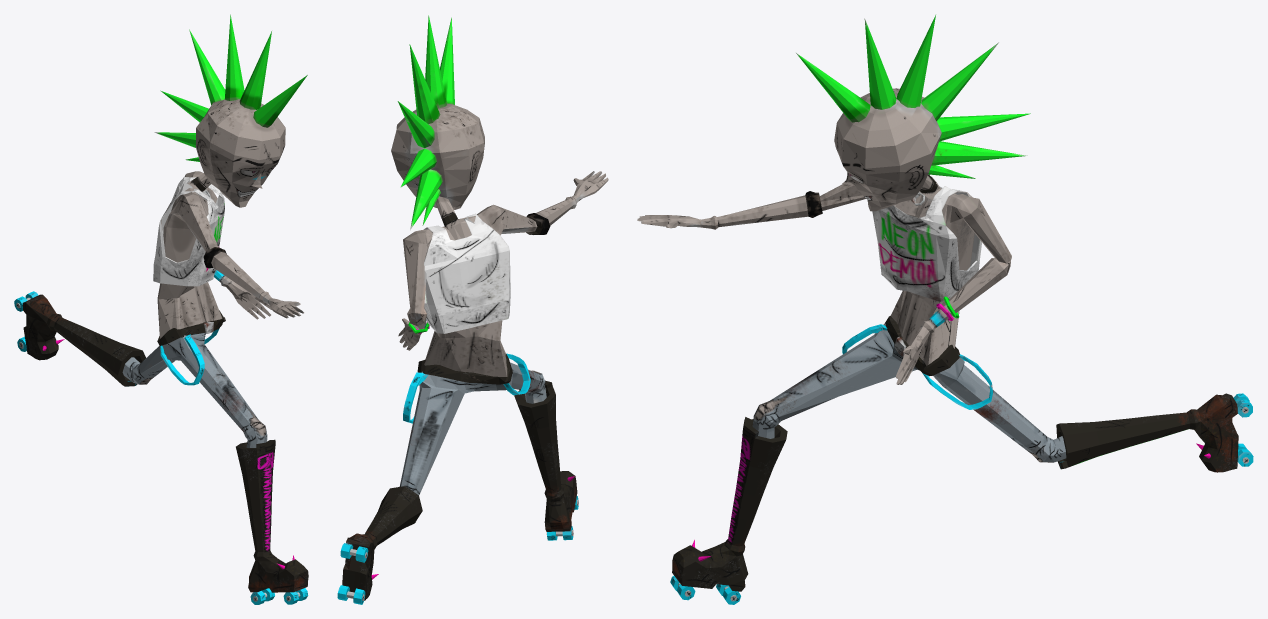
File: punkAnimation_000010.obj
3 views of the same model, side by side, from view 1: azimuth 30°, elevation 25°; view 2: azimuth 150°, elevation 25°; view 3: azimuth 270°, elevation 25° (orthographic). The views are drawn at different scales.
Visible parts, largest first — view 1: Cube.004_Cube.003; view 2: Cube.004_Cube.003; view 3: Cube.004_Cube.003.
Boxes of the visible parts, x1,y1,x2,y2 form: Cube.004_Cube.003: (14, 14, 308, 604); Cube.004_Cube.003: (337, 15, 608, 604); Cube.004_Cube.003: (637, 15, 1253, 604).
Bounding box in the file's own units: 1.56 × 6.64 × 5.97.
